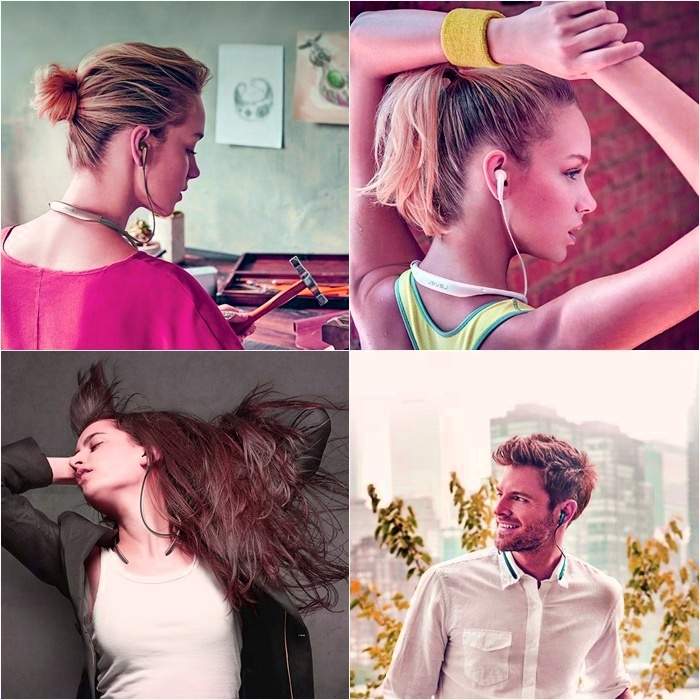earphone: (483, 149, 513, 201), (129, 125, 152, 167), (555, 499, 578, 529)
